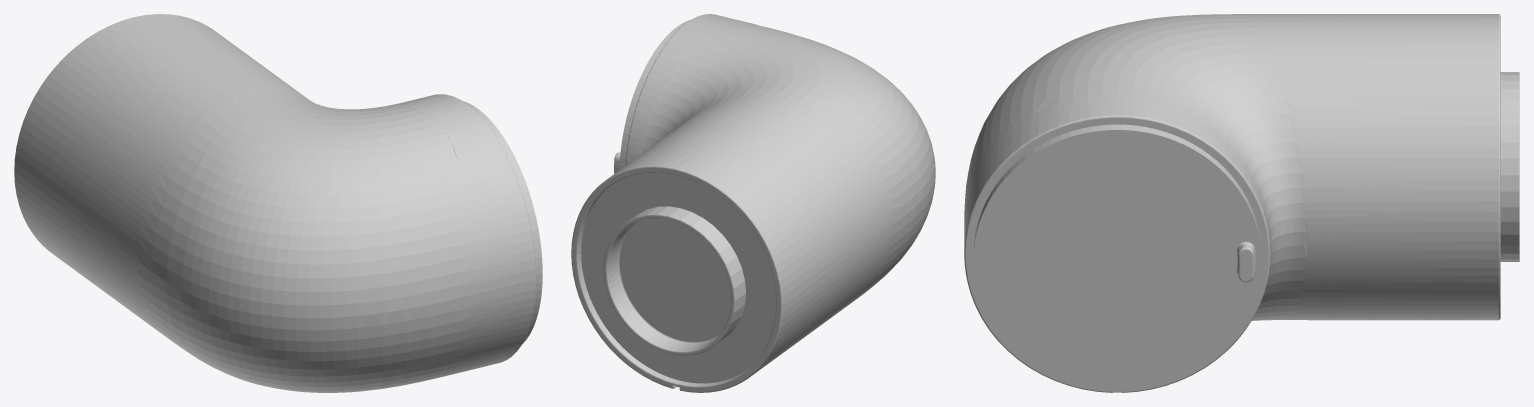
File: joint2.obj
3 views of the same model, side by side, from view 1: azimuth 30°, elevation 25°; view 2: azimuth 150°, elevation 25°; view 3: azimuth 270°, elevation 25° (orthographic). The views are drawn at different scales.
Parts seen in each view (by area): view 1: Link2-mesh; view 2: Link2-mesh; view 3: Link2-mesh.
Part boxes in pixels (box(x1,y1,x2,y2)): Link2-mesh: box(14, 14, 542, 392); Link2-mesh: box(571, 14, 935, 392); Link2-mesh: box(964, 14, 1519, 392).
Size of the model in its own units: 0.0605 by 0.048 by 0.0871.
Materials: 1 (1 with a texture image).
